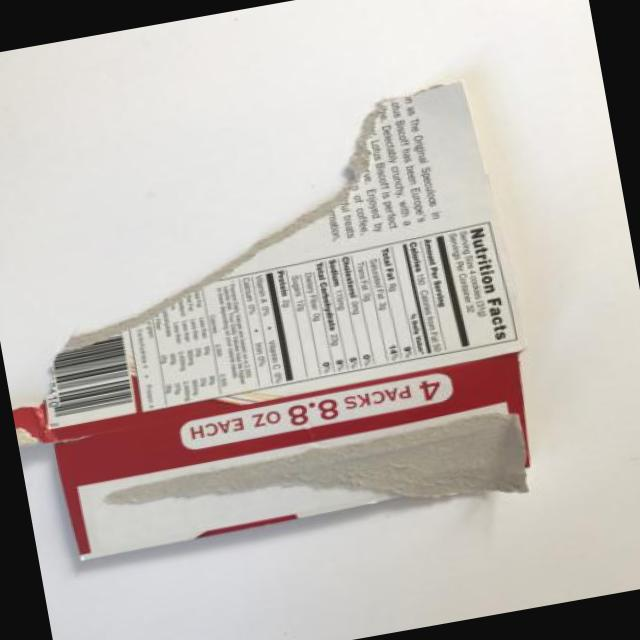paper: (4, 93, 568, 572)
